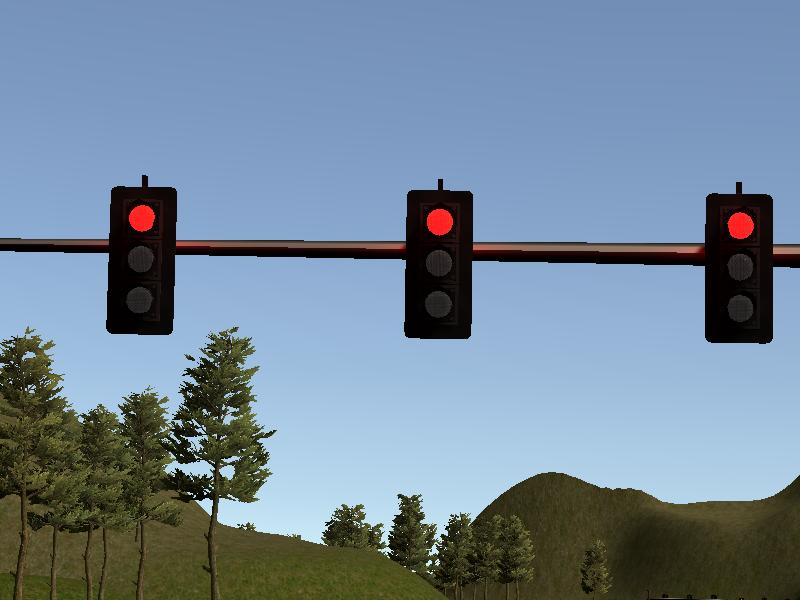Red: (706, 192, 773, 343), (407, 189, 471, 339), (109, 185, 172, 334)
